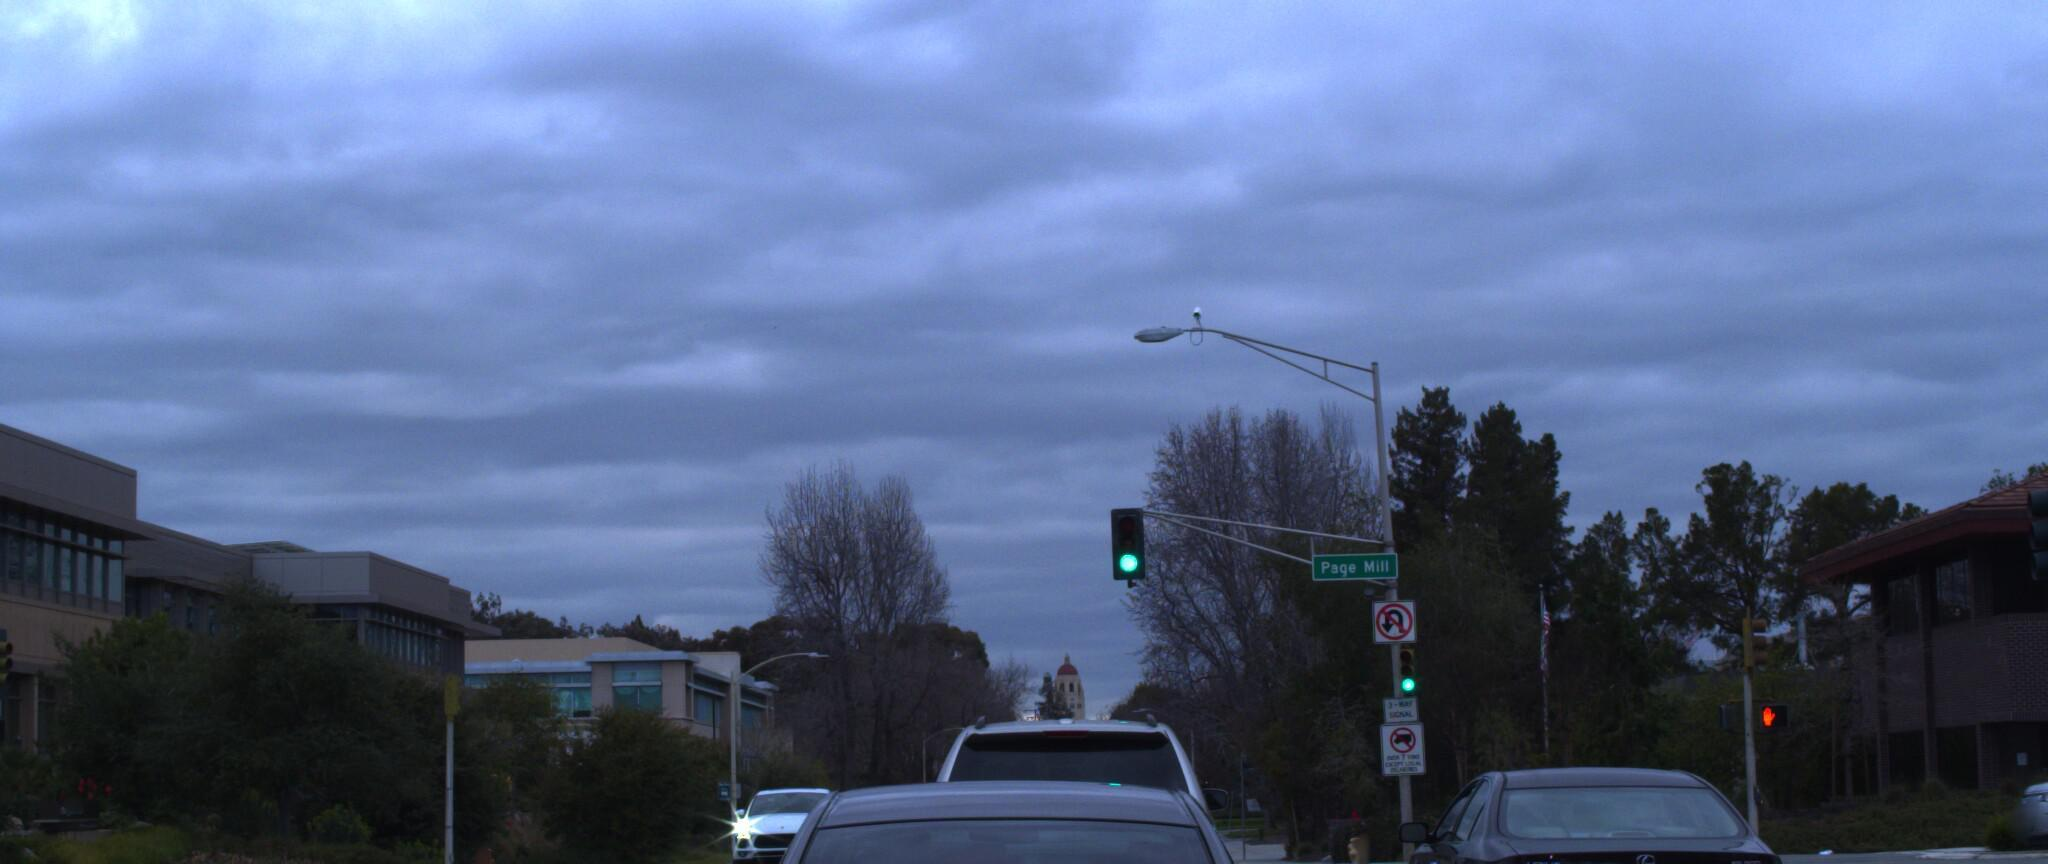car: (690, 753, 1301, 864), (875, 698, 1237, 864), (1371, 762, 1822, 864), (714, 783, 846, 864), (1972, 727, 2048, 856)
